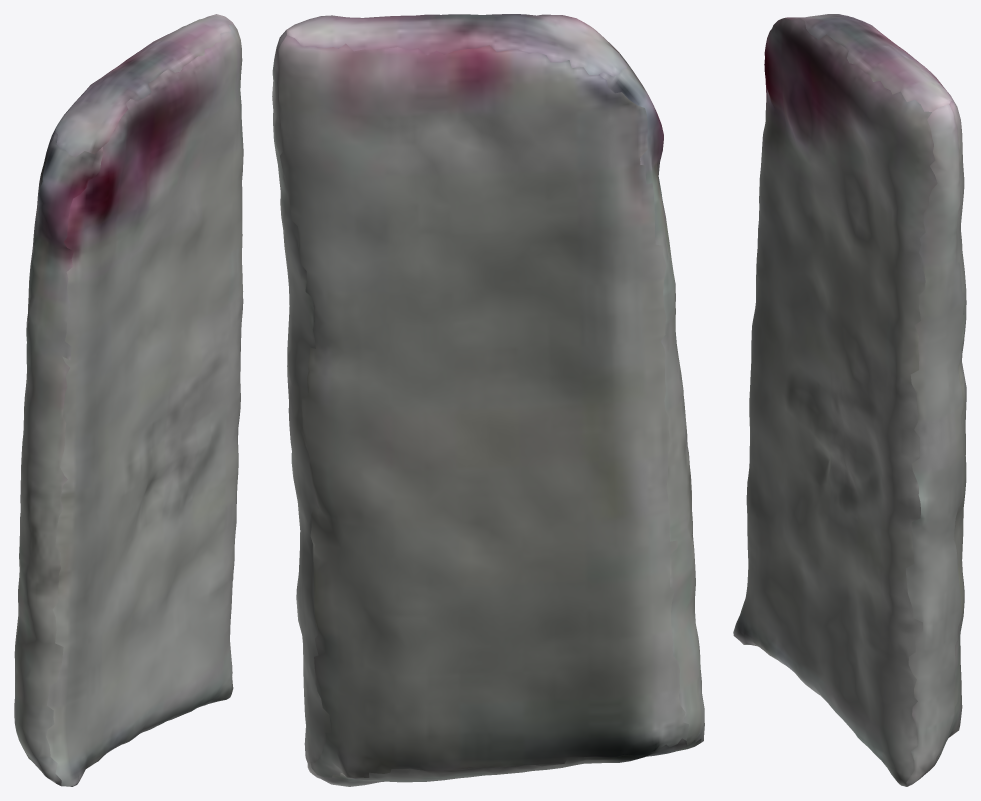
Rendered from 7_poster.glb.
3 renders of one model, left to right at view 1: azimuth 30°, elevation 25°; view 2: azimuth 150°, elevation 25°; view 3: azimuth 270°, elevation 25°, orthographic. The views are drawn at different scales.
Visible parts, largest first — view 1: 7_poster; view 2: 7_poster; view 3: 7_poster.
Boxes of the visible parts, <box> form: 7_poster: <box>14,14,243,786</box>; 7_poster: <box>272,14,704,786</box>; 7_poster: <box>733,14,966,786</box>.
Bounding box in the file's own units: 0.5118 × 1.13 × 0.3412.
1 material, 1 textured.
